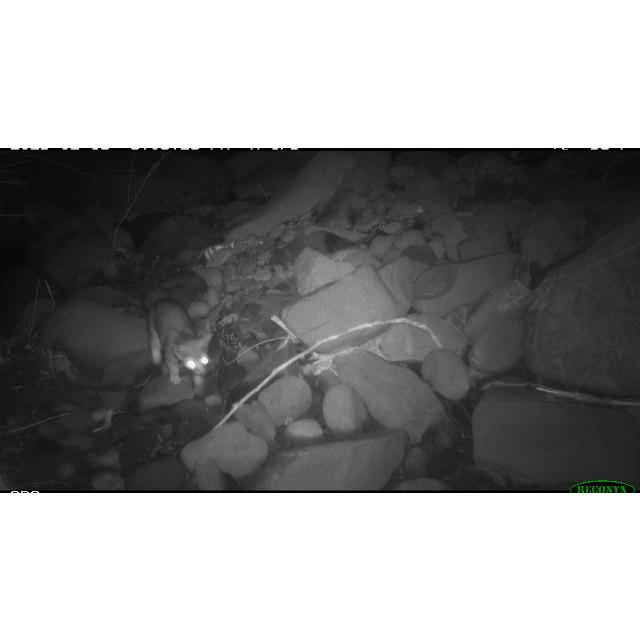animals: (149, 294, 211, 396)
